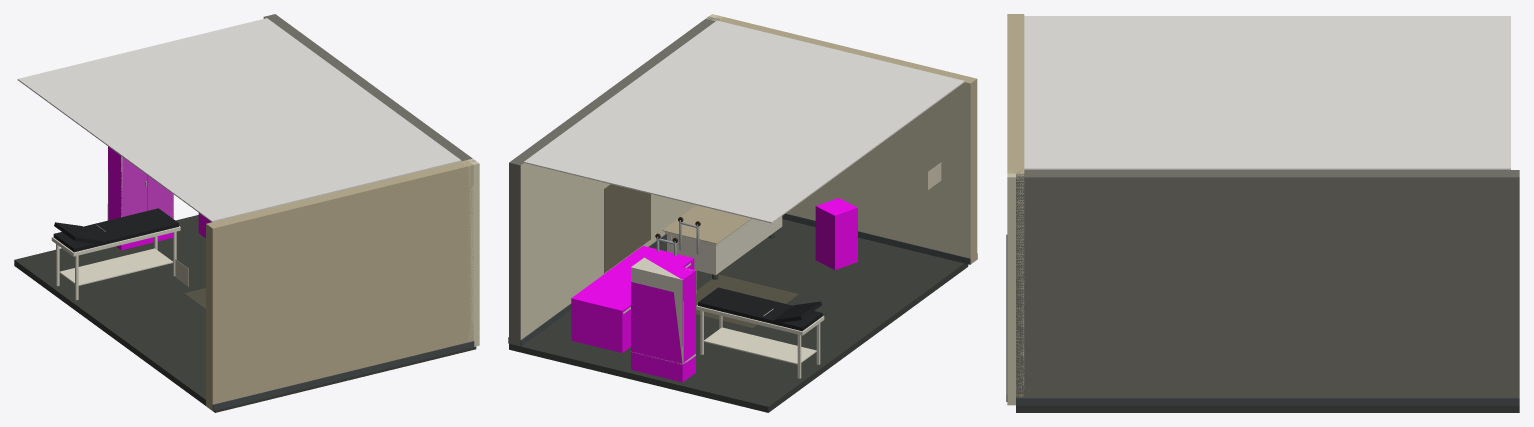
File: ENV_HistoricalTreatmentRoom.glb
3 views of the same model, side by side, from view 1: azimuth 30°, elevation 25°; view 2: azimuth 150°, elevation 25°; view 3: azimuth 270°, elevation 25° (orthographic). The views are drawn at different scales.
Parts seen in each view (by area): view 1: ENV_HistoricalTreatmentRoom_Architecture, ENV_HistoricalTreatmentRoom_Ceiling, PROP_Table_Exam_Historic_Mesh, PROP_Cabinet_Instrument_Glass_COL-colonly.001, PROP_Cabinet_Instrument_Glass_Mesh.001, ENV_HistoricalTreatmentRoom_Posts, ENV_HistoricalTreatmentRoom_Decay; view 2: ENV_HistoricalTreatmentRoom_Architecture, ENV_HistoricalTreatmentRoom_Ceiling, PROP_Cabinet_Instrument_Glass_COL-colonly.001, PROP_Table_Exam_Historic_Mesh, ENV_HistoricalTreatmentRoom_Decay, PROP_Tub_Hydrotherapy_COL-colonly.001, PROP_Tub_Hydrotherapy_Mesh, PROP_Chair_Wood_Historic_COL-colonly.007, TR_TubCover, PROP_Cabinet_Instrument_Glass_Mesh.001; view 3: ENV_HistoricalTreatmentRoom_Architecture, ENV_HistoricalTreatmentRoom_Ceiling, ENV_HistoricalTreatmentRoom_Posts.
Boxes of the visible parts, x1,y1,x2,y2 form: ENV_HistoricalTreatmentRoom_Architecture: (14, 14, 476, 412); ENV_HistoricalTreatmentRoom_Ceiling: (17, 18, 461, 222); PROP_Table_Exam_Historic_Mesh: (51, 208, 180, 300); PROP_Cabinet_Instrument_Glass_COL-colonly.001: (108, 146, 173, 250); PROP_Cabinet_Instrument_Glass_Mesh.001: (107, 156, 172, 220); ENV_HistoricalTreatmentRoom_Posts: (462, 158, 479, 346); ENV_HistoricalTreatmentRoom_Decay: (175, 259, 205, 308); ENV_HistoricalTreatmentRoom_Architecture: (508, 15, 977, 412); ENV_HistoricalTreatmentRoom_Ceiling: (524, 20, 964, 223); PROP_Cabinet_Instrument_Glass_COL-colonly.001: (631, 257, 695, 382); PROP_Table_Exam_Historic_Mesh: (696, 287, 824, 378); ENV_HistoricalTreatmentRoom_Decay: (604, 162, 941, 328); PROP_Tub_Hydrotherapy_COL-colonly.001: (571, 246, 694, 352); PROP_Tub_Hydrotherapy_Mesh: (665, 216, 782, 279); PROP_Chair_Wood_Historic_COL-colonly.007: (815, 198, 857, 269); TR_TubCover: (662, 205, 751, 243); PROP_Cabinet_Instrument_Glass_Mesh.001: (631, 257, 696, 364); ENV_HistoricalTreatmentRoom_Architecture: (1006, 14, 1519, 412); ENV_HistoricalTreatmentRoom_Ceiling: (1024, 16, 1510, 169); ENV_HistoricalTreatmentRoom_Posts: (1007, 170, 1024, 405).
Size of what is drawn, in the model's own units: 4.61 by 3.12 by 6.11.
